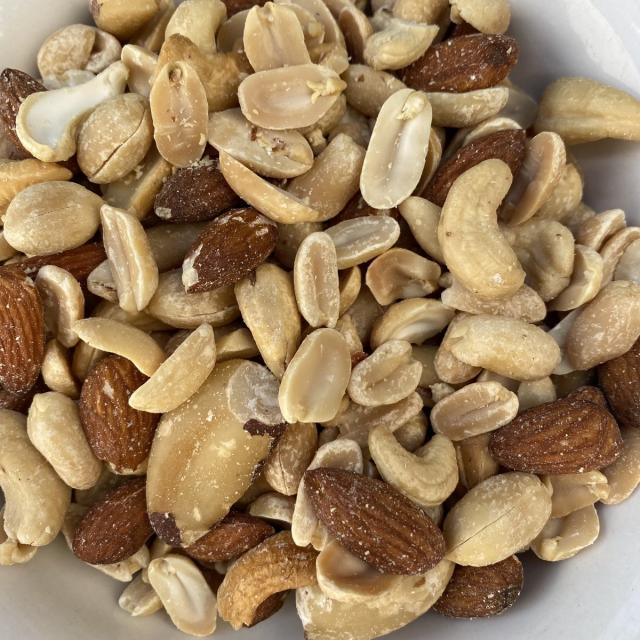Frutta secca: (11, 21, 633, 621)
